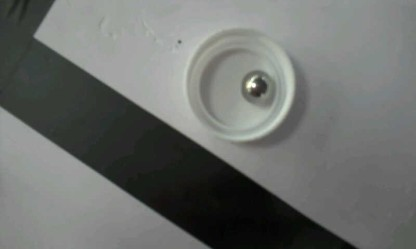ironball: (239, 69, 274, 102)
